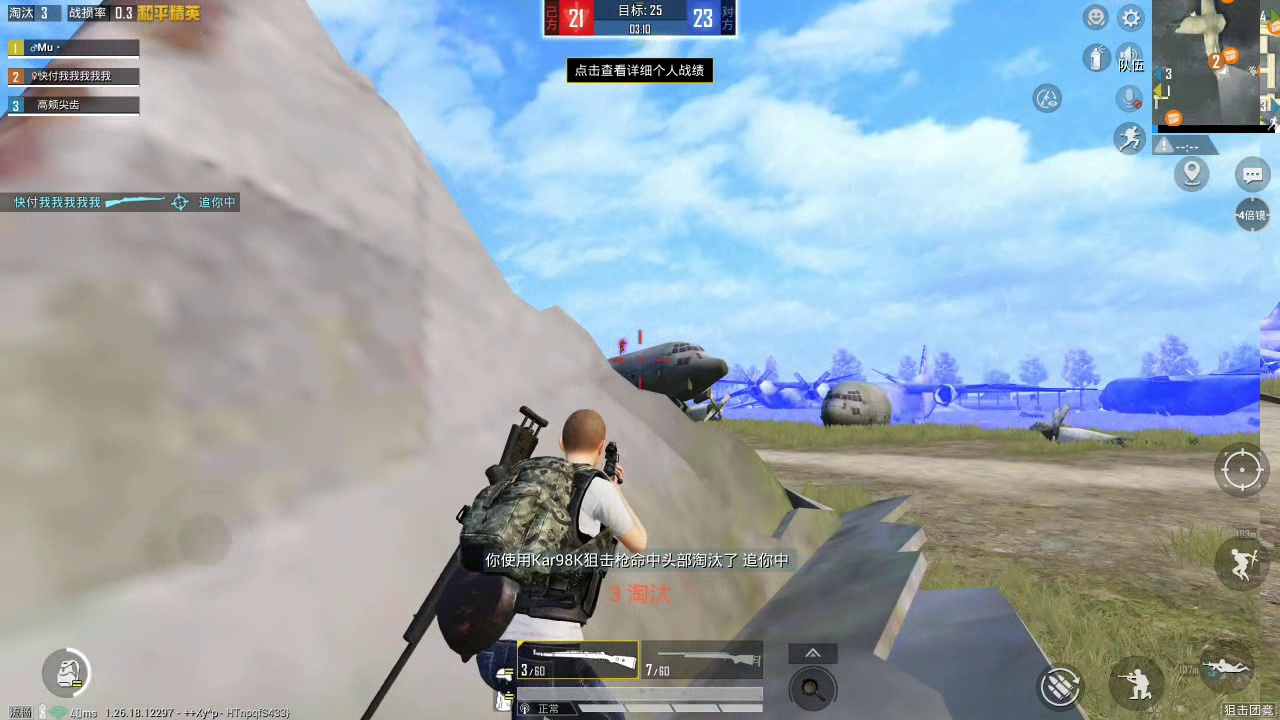enemy: (618, 336, 629, 356)
